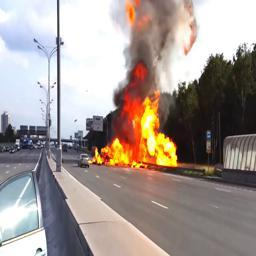fire: (94, 63, 178, 169)
